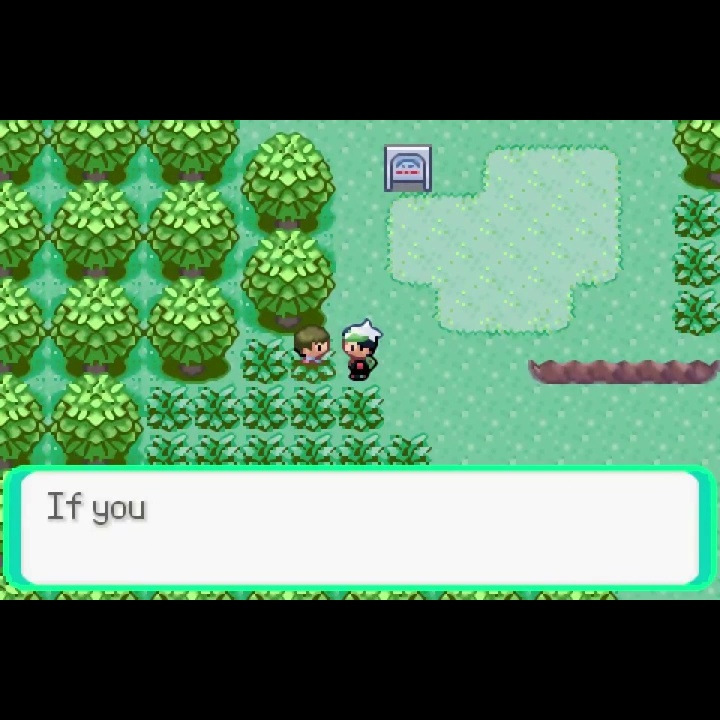grass: (337, 382, 387, 434), (670, 191, 720, 242), (143, 384, 194, 433), (239, 385, 289, 434), (288, 383, 336, 434), (239, 337, 291, 384), (671, 289, 720, 338), (194, 385, 241, 434), (671, 242, 720, 287), (142, 431, 195, 465), (336, 431, 386, 465), (240, 431, 290, 465), (288, 431, 337, 465), (385, 431, 433, 465), (194, 431, 242, 464)
npc: (338, 317, 389, 383), (293, 322, 331, 375)
wall: (144, 178, 242, 284), (239, 234, 338, 338), (145, 277, 240, 385), (240, 131, 337, 234), (49, 277, 144, 382), (49, 179, 145, 281), (50, 370, 143, 465), (144, 120, 242, 189), (49, 120, 144, 190), (1, 277, 49, 381), (1, 371, 49, 466), (1, 181, 48, 278), (670, 120, 720, 192), (1, 120, 48, 188)
